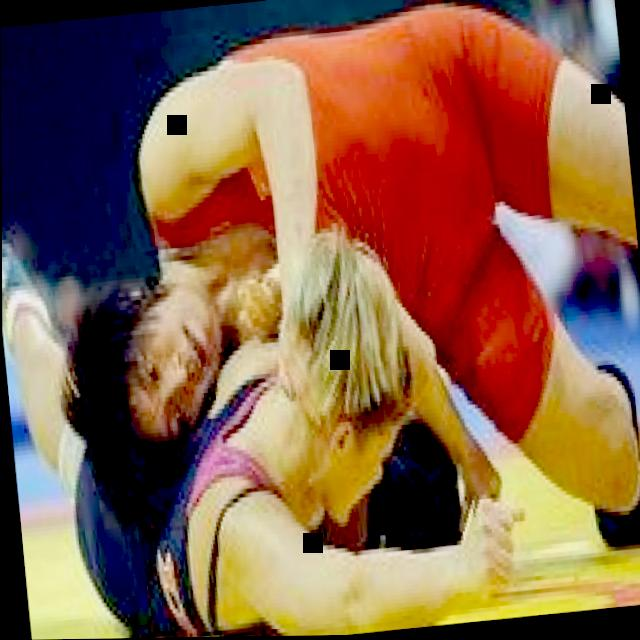Fall-Detected: (0, 0, 535, 640)
